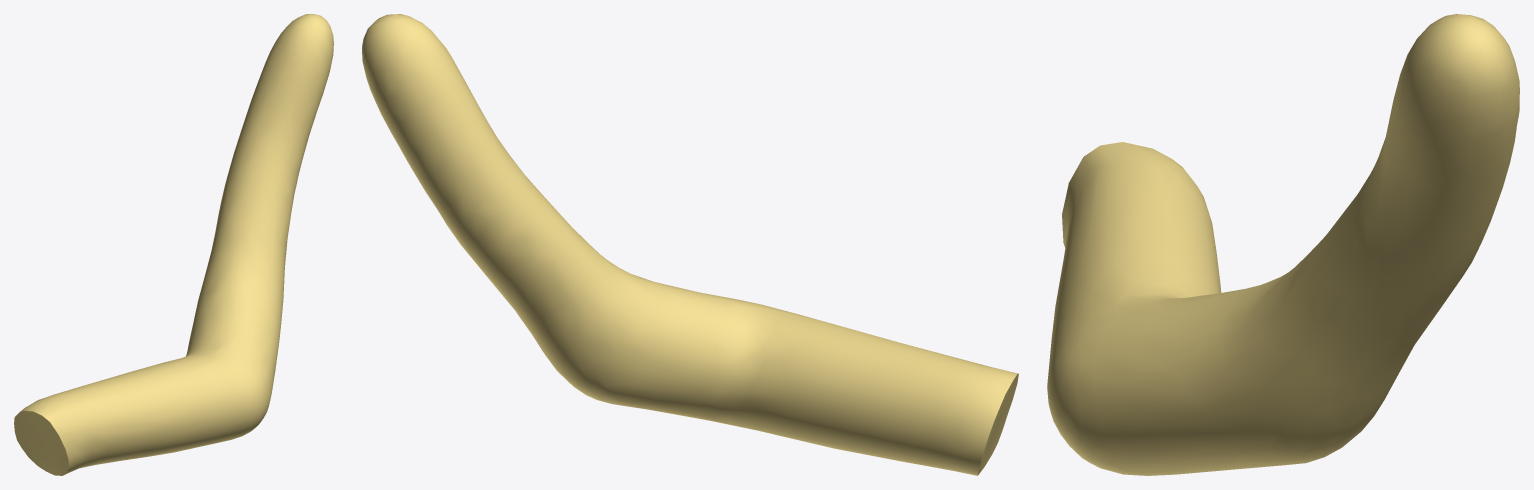
Rendered from fma72711_mm3000m.glb.
3 views of the same model, side by side, from view 1: azimuth 30°, elevation 25°; view 2: azimuth 150°, elevation 25°; view 3: azimuth 270°, elevation 25° (orthographic). The views are drawn at different scales.
Visible parts, largest first — view 1: FMA72711_MM3000M; view 2: FMA72711_MM3000M; view 3: FMA72711_MM3000M.
Part boxes in pixels (box(x1,y1,x2,y2)): FMA72711_MM3000M: box(14, 14, 333, 475); FMA72711_MM3000M: box(362, 14, 1018, 475); FMA72711_MM3000M: box(1047, 14, 1519, 475).
Size of the model in its own units: 0.0175 by 0.0136 by 0.00958.
